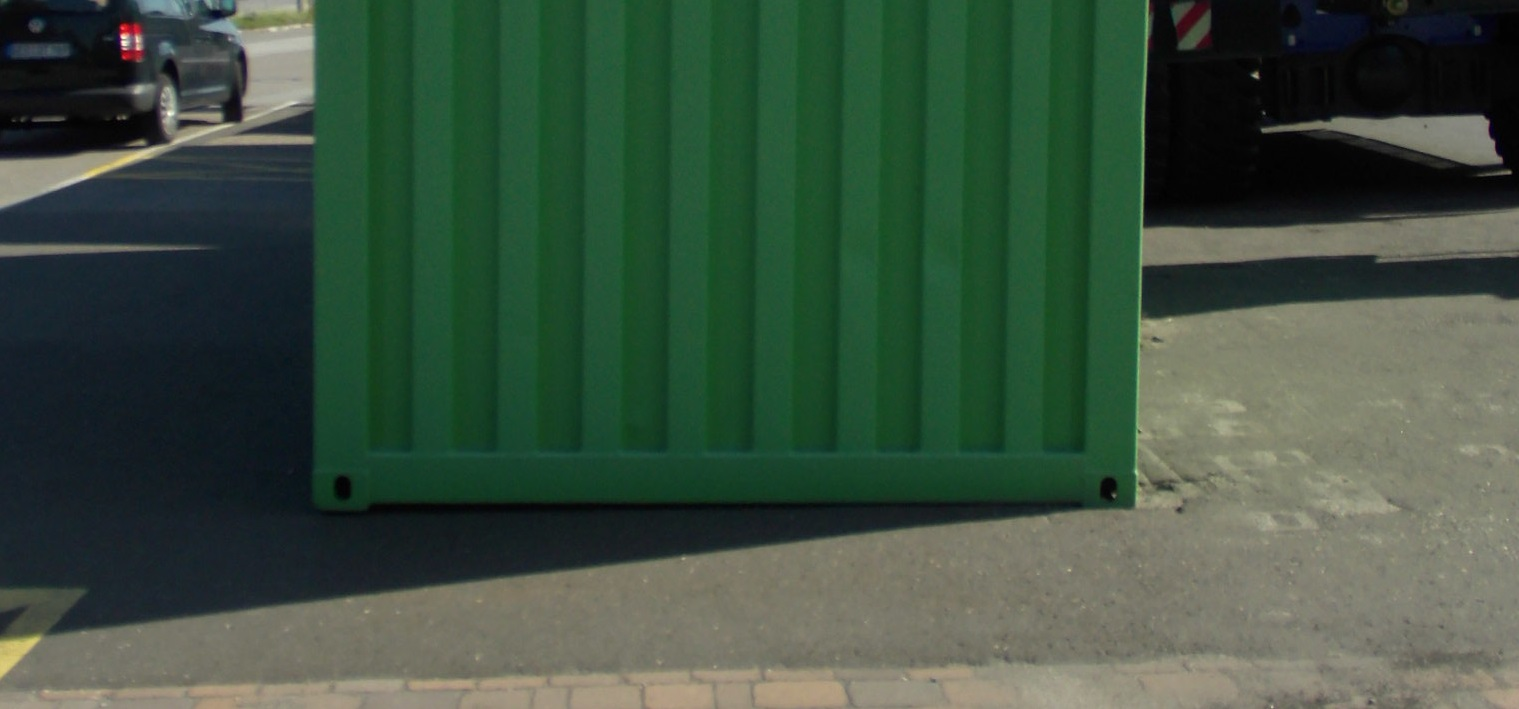container_no_door: (312, 3, 1155, 512)
